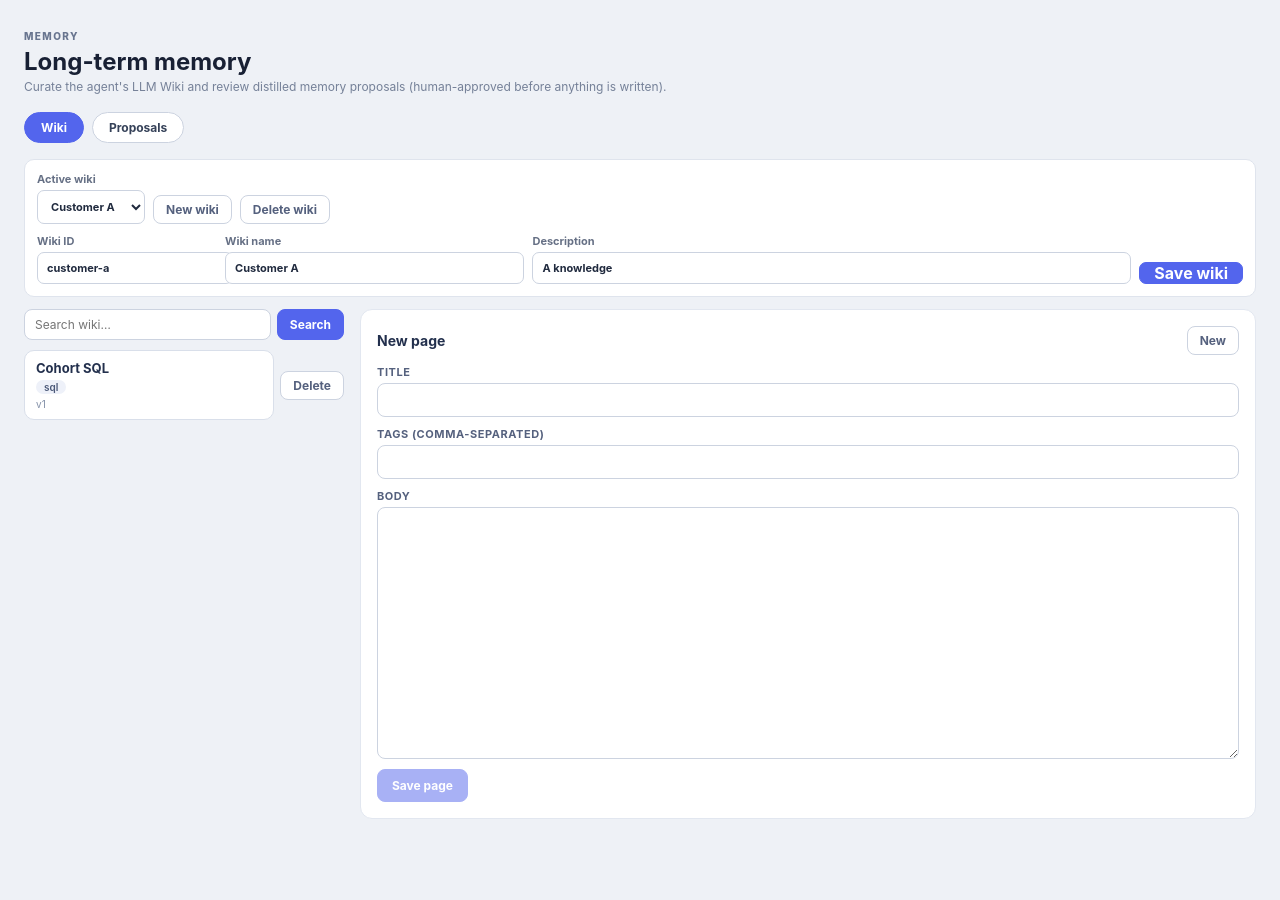
Test: MemoryPage › Wiki 一覧を表示し、ページを開いて編集フォームに反映する
The image size is (1280, 900).
Click the button "Cohort SQL sql v1" at (149, 385), box [24,350,274,420]
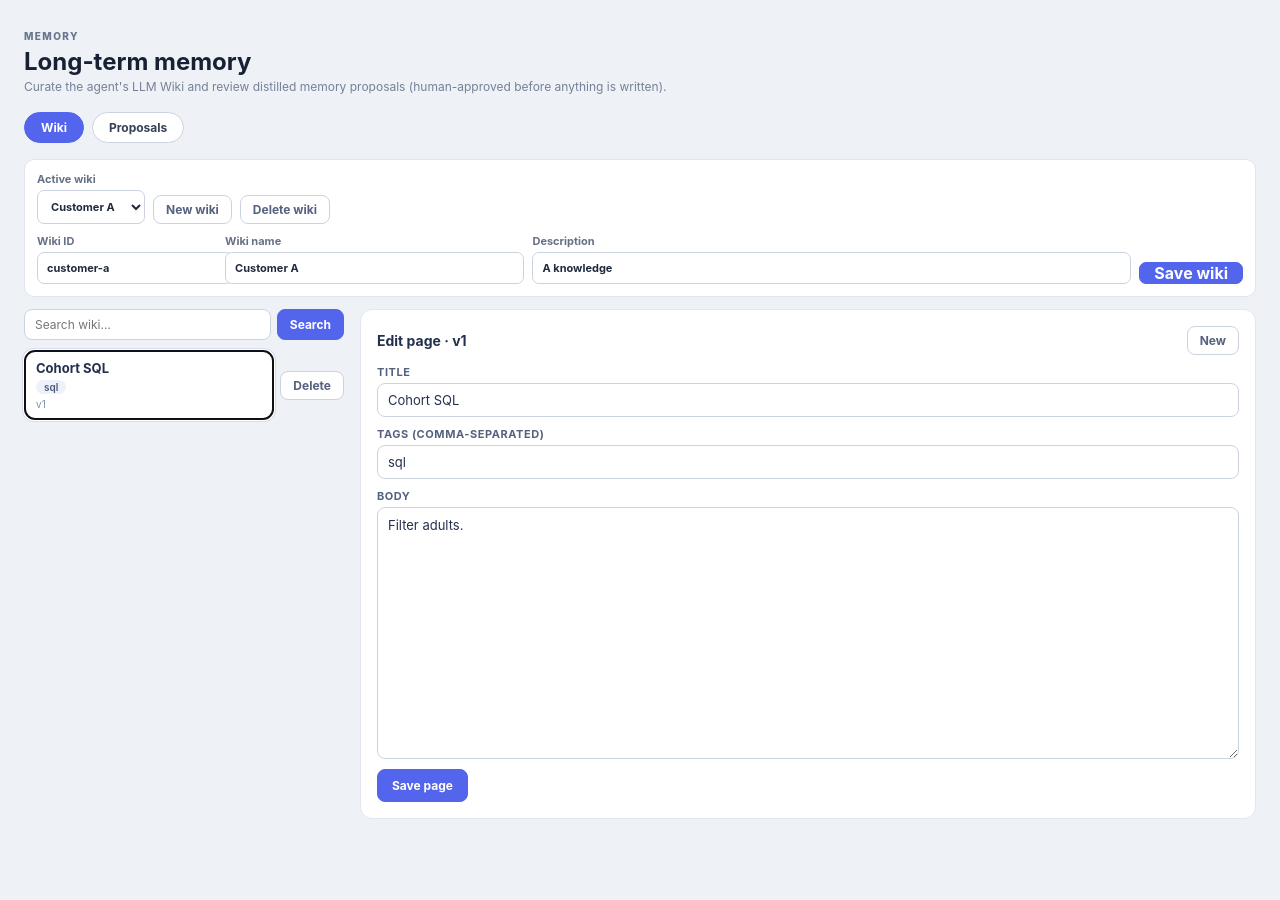
Now the field showing "Cohort SQL" is shown, box [377,383,1239,417]
Now the text box showing "Filter adults." is shown, box [377,507,1239,759]
